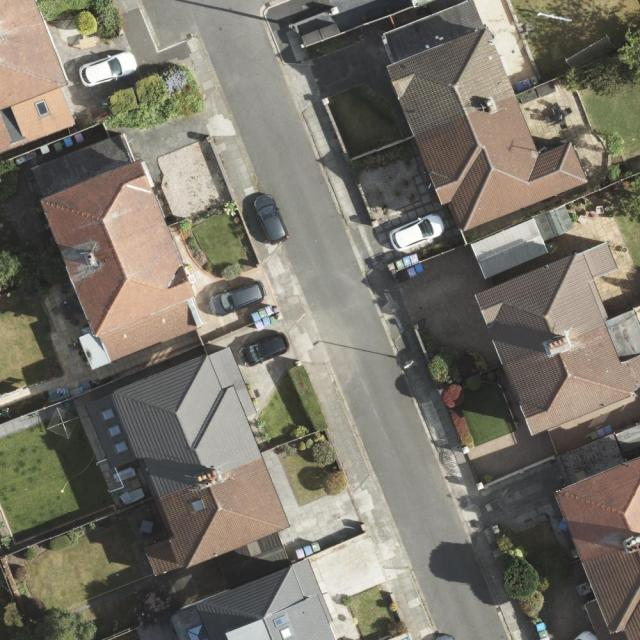roof: (382, 0, 589, 232), (86, 346, 292, 578), (32, 132, 203, 371), (474, 241, 639, 434), (556, 455, 640, 640), (171, 557, 337, 640), (0, 0, 77, 154)
skylight: (187, 624, 209, 640), (113, 439, 130, 455), (108, 423, 124, 440), (272, 613, 291, 627), (190, 498, 206, 513), (102, 406, 116, 422), (280, 625, 294, 640)
